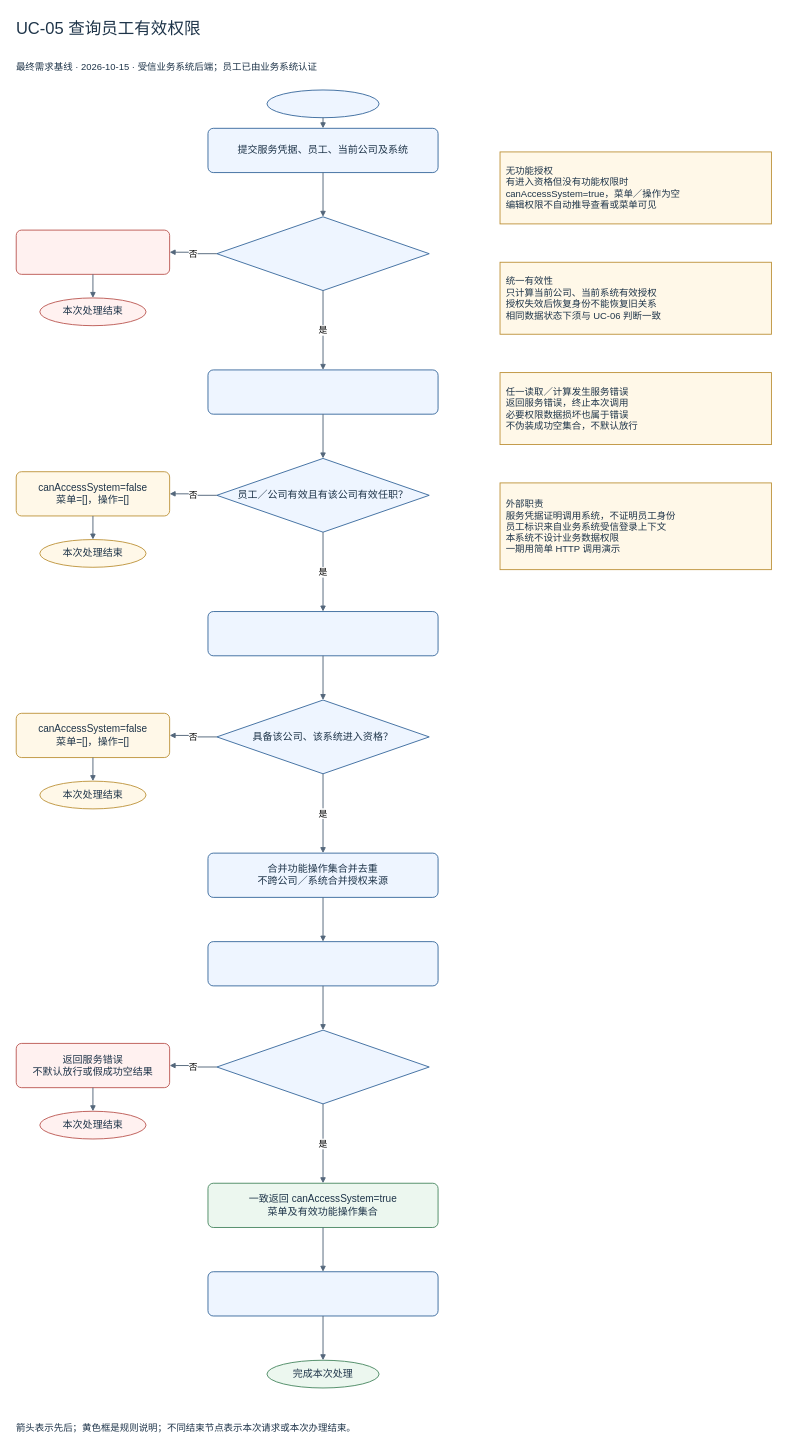
This 799x1451 diagram has some shape labels left out. Here are the shapes that lost their labels. From the top down, the box of each, then its label:
(266, 89, 379, 118): 开始
(16, 229, 170, 275): 返回调用错误，不返回正常授权结果
(216, 216, 429, 291): 参数、服务身份与系统绑定合法？
(207, 369, 438, 414): 读取员工、公司及当前任职状态
(207, 611, 438, 656): 一致读取当前公司、系统的有效角色 排除失效关系、未生效角色及无效目录
(207, 941, 438, 986): 按对应查看／进入权限生成可见菜单 补充必要祖先，标记仅导航容器
(216, 1029, 429, 1104): 授权读取、目录及功能权限计算正常完成？
(207, 1271, 438, 1316): 业务系统映射功能入口 按操作权限执行访问拦截
